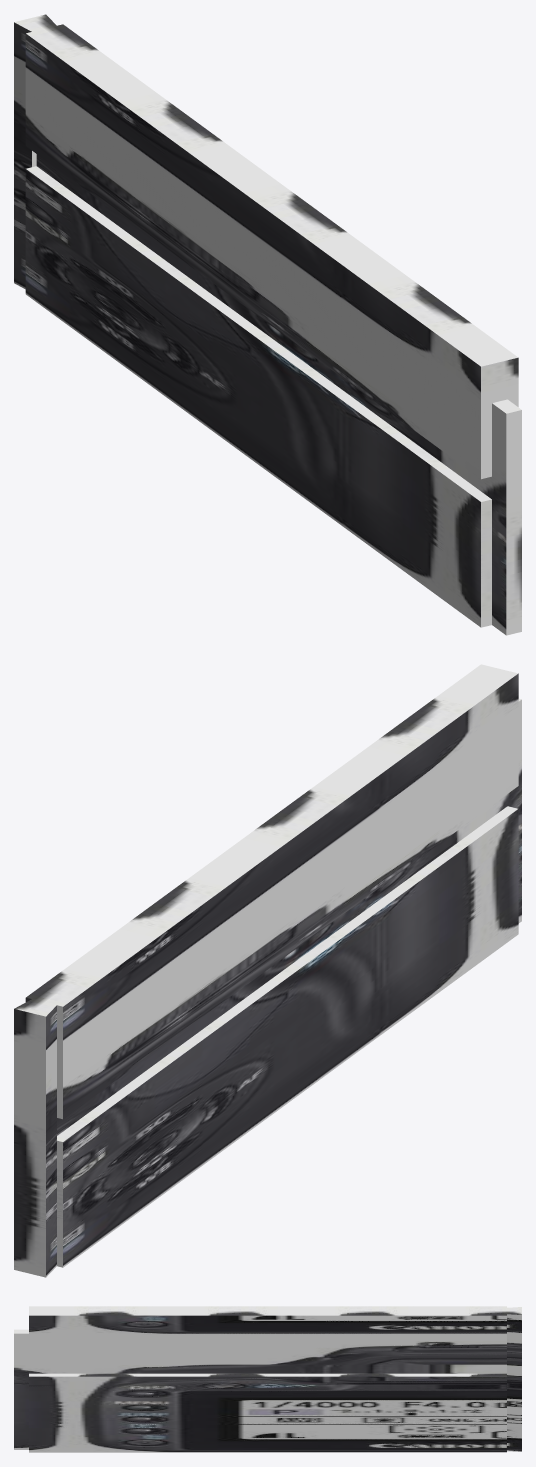
Rendered from original-36.obj.
3 renders of one model, top to bottom at view 1: azimuth 30°, elevation 25°; view 2: azimuth 150°, elevation 25°; view 3: azimuth 270°, elevation 25°, orthographic. The views are drawn at different scales.
Visible parts, largest first — view 1: Divider2/Divider12/mesh82/mesh82-geometry#mesh82-geometry; view 2: Divider2/Divider12/mesh82/mesh82-geometry#mesh82-geometry; view 3: Divider2/Divider12/mesh82/mesh82-geometry#mesh82-geometry.
Part boxes in pixels (x1=…): Divider2/Divider12/mesh82/mesh82-geometry#mesh82-geometry: x1=14, y1=14, x2=521, y2=635; Divider2/Divider12/mesh82/mesh82-geometry#mesh82-geometry: x1=14, y1=664, x2=521, y2=1277; Divider2/Divider12/mesh82/mesh82-geometry#mesh82-geometry: x1=14, y1=1306, x2=521, y2=1452.
Bounding box in the file's own units: 0.0222 × 0.1482 × 0.4983.
